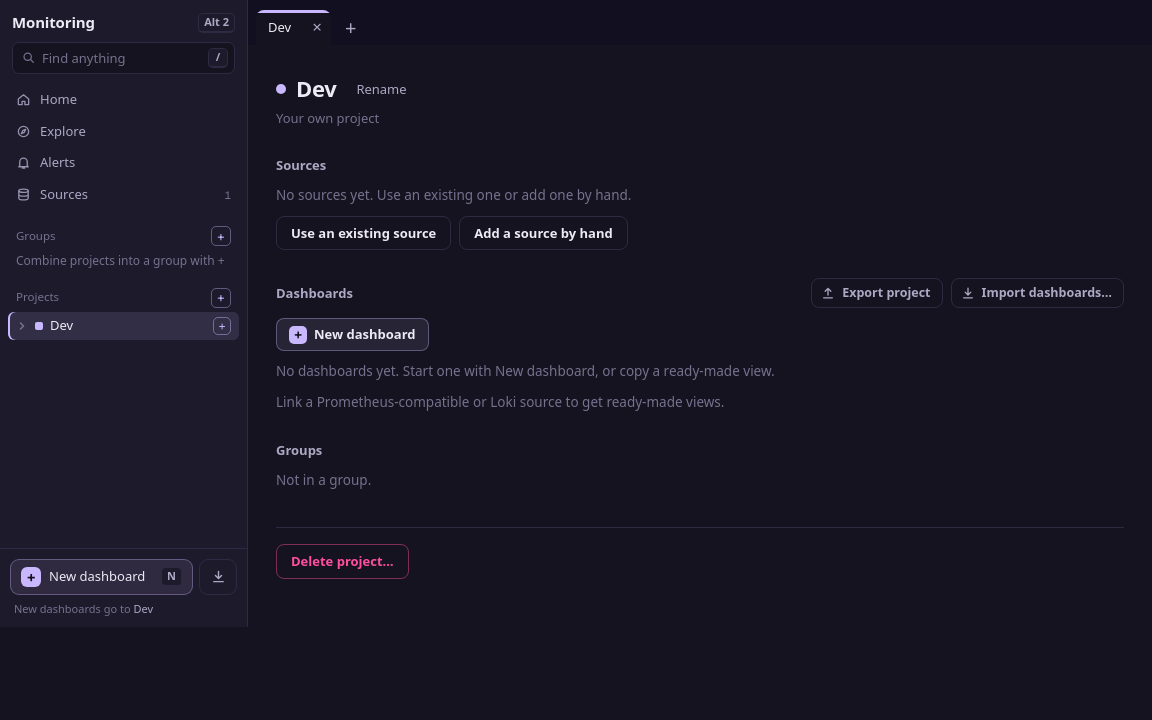
Test: Project page › links an existing source with a suggested filter
Click the button "Use an existing source" at (364, 233), box [276, 216, 451, 250]
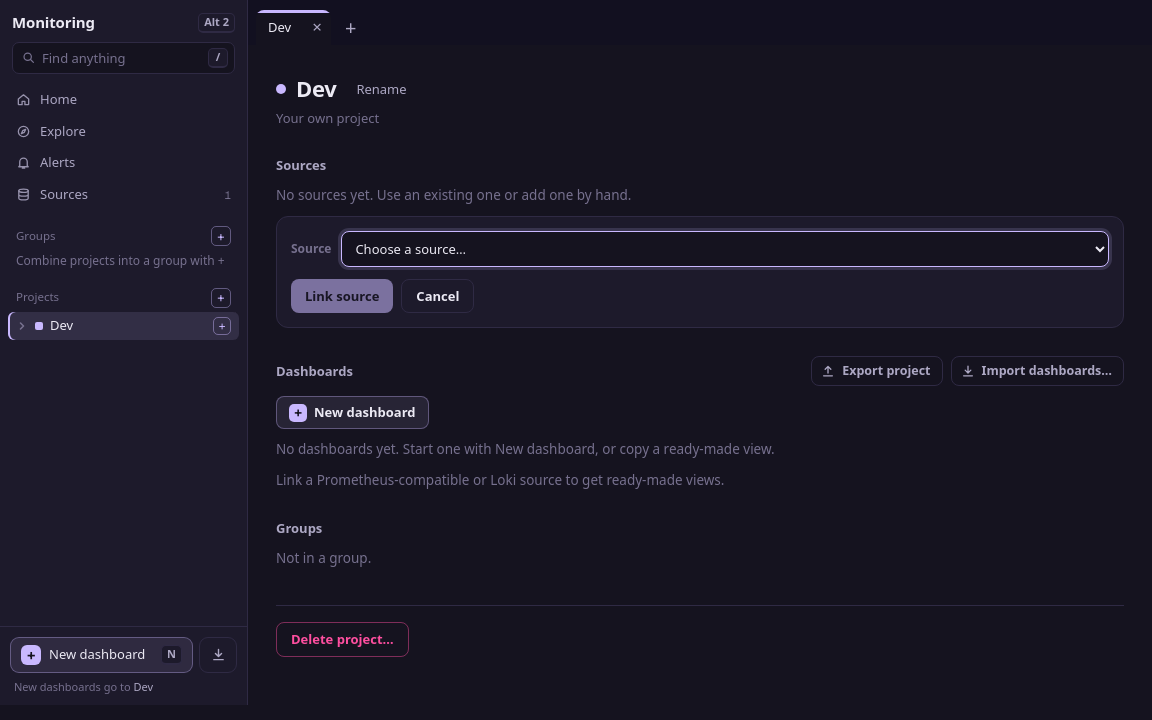
Select "Prom · http://prom.example:9090" in the dropdown labelled "Source" at (725, 248), box [341, 230, 1109, 266]
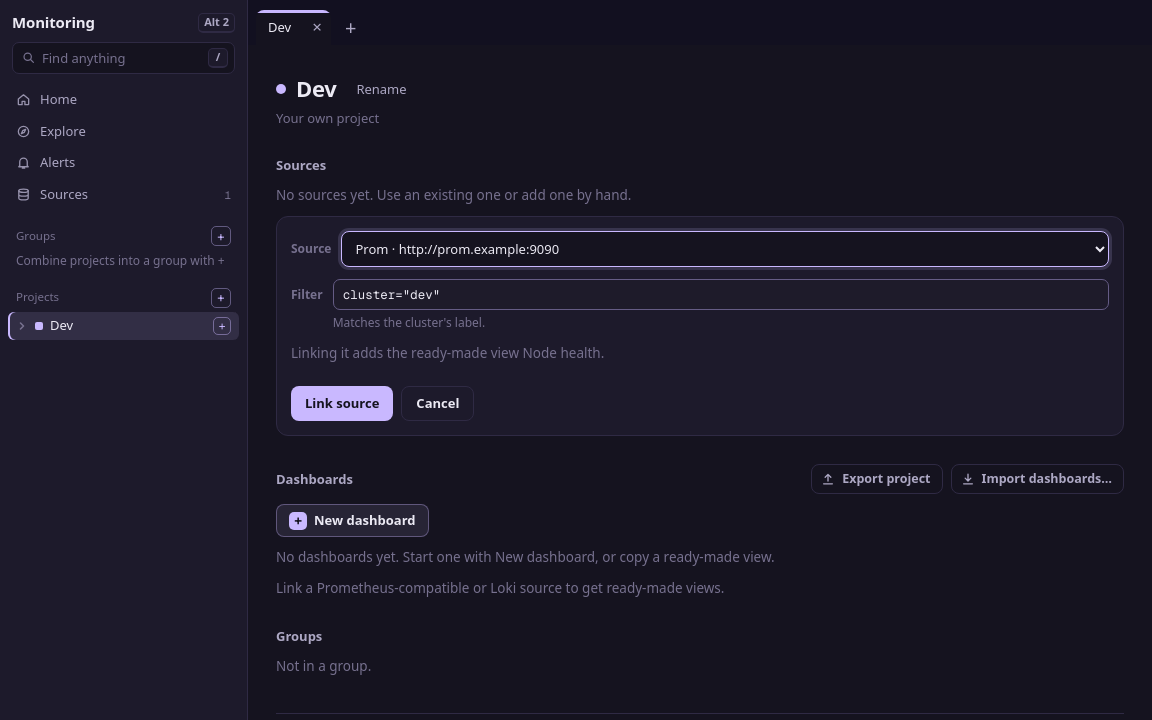
Now the field named "Filter for the new link" holds "cluster=\"dev\"", box [333, 278, 1109, 310]
Click the button "Link source" at (342, 404), box [291, 386, 393, 421]
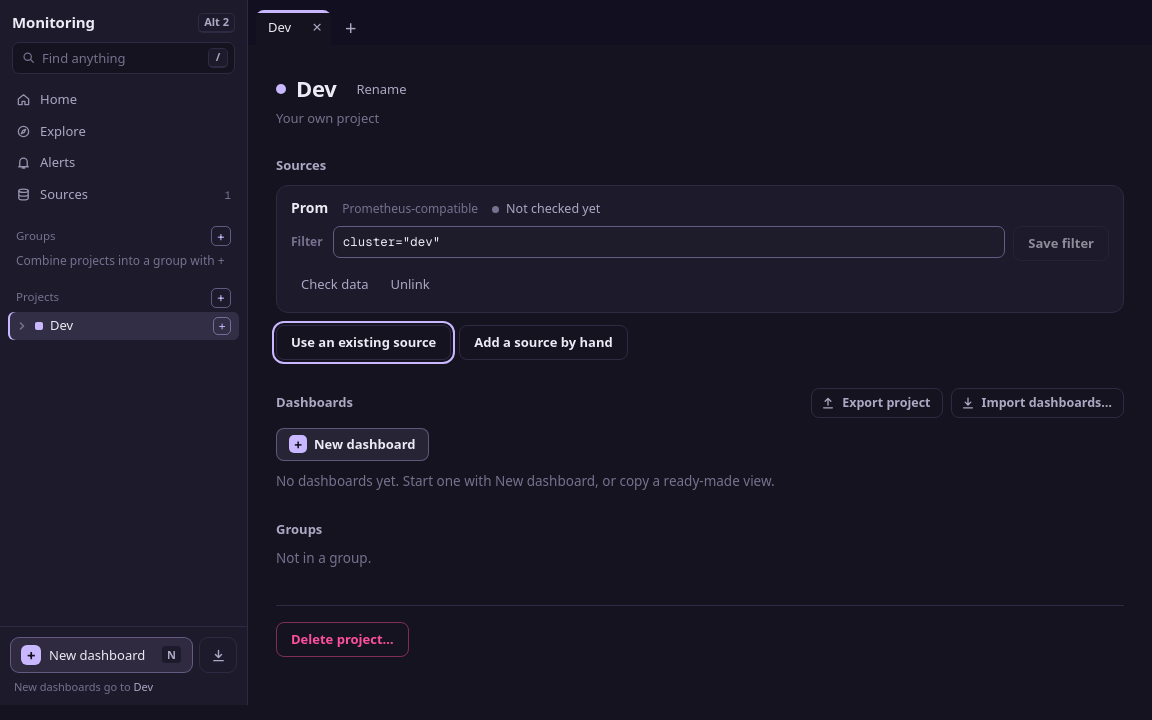
Now the button with aria-label "Unlink Prom" is shown, box [380, 269, 440, 300]
